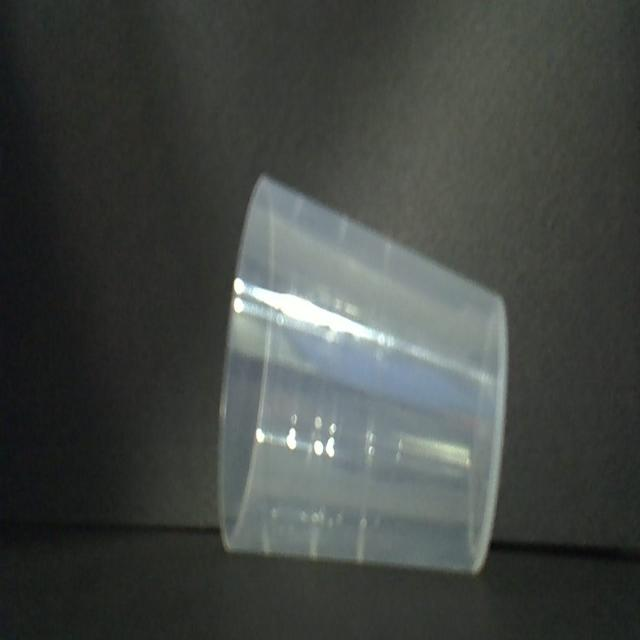cup: (216, 173, 512, 578)
